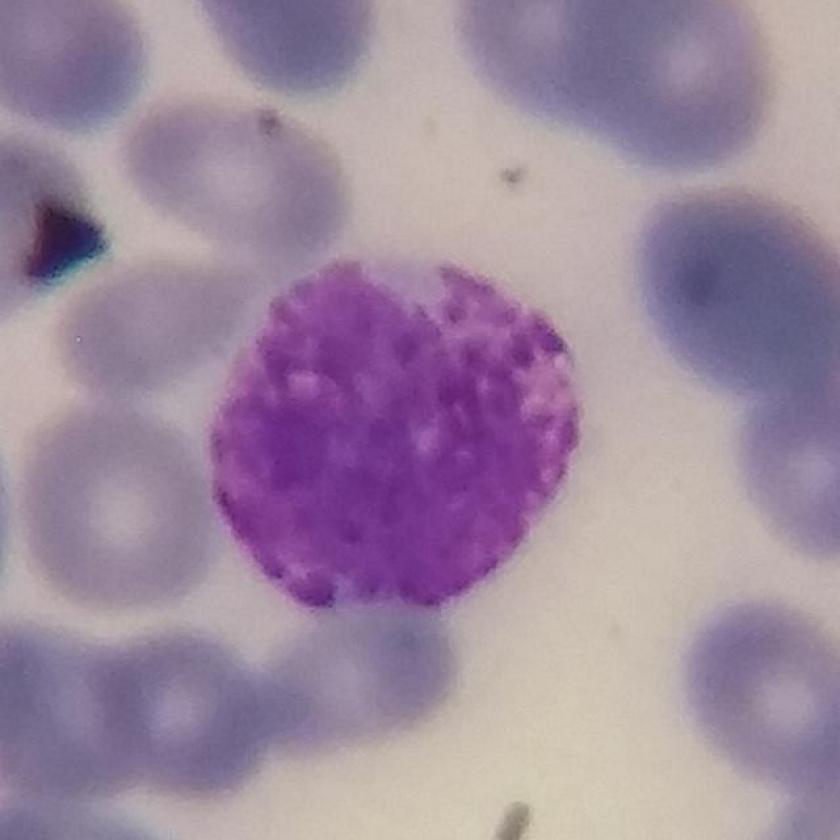basophil: (202, 248, 594, 624)
